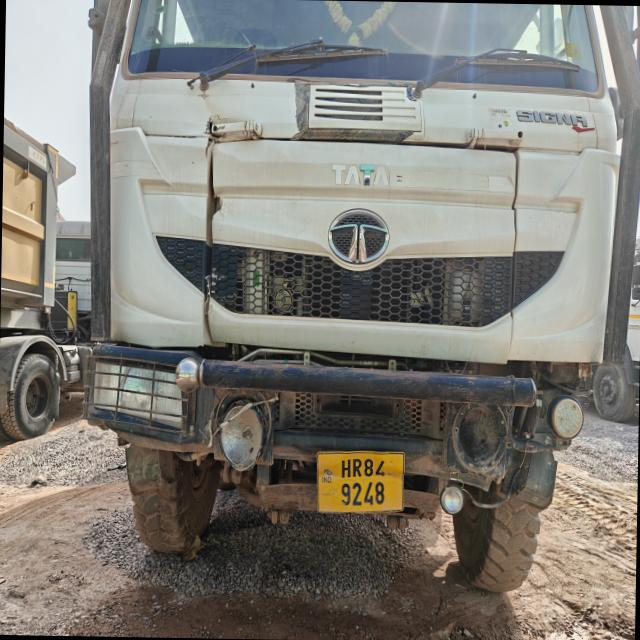license_plate: (318, 452, 404, 512)
